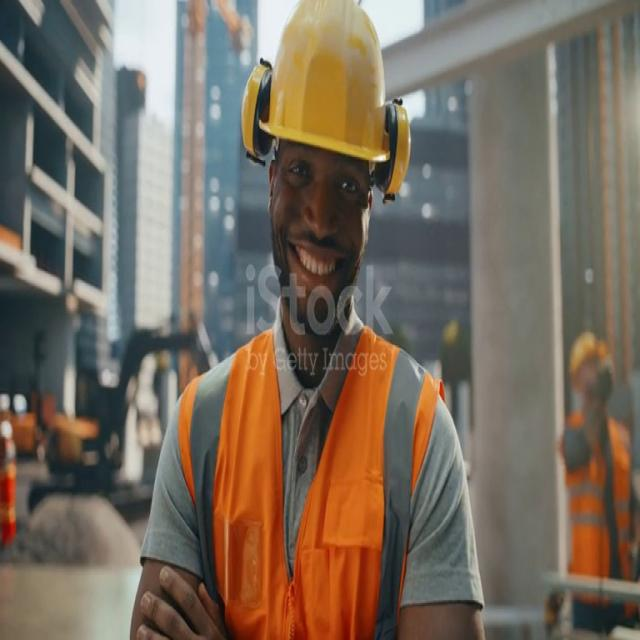capacete: (242, 0, 403, 206)
